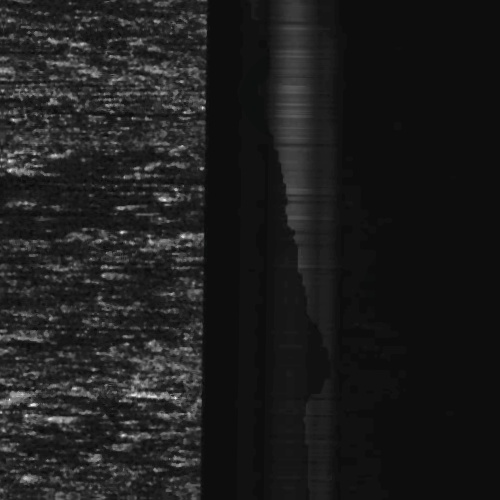object: (8, 333, 71, 342)
shadow: (39, 333, 123, 342), (0, 176, 93, 181)
